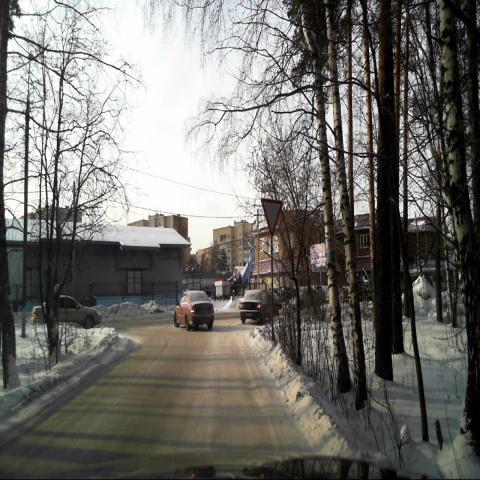2_4: (260, 197, 283, 236)
